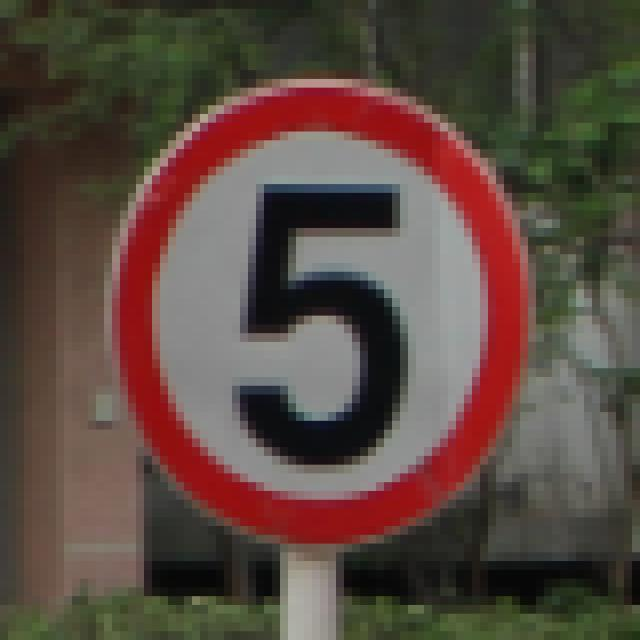Speed: (94, 49, 545, 568)
